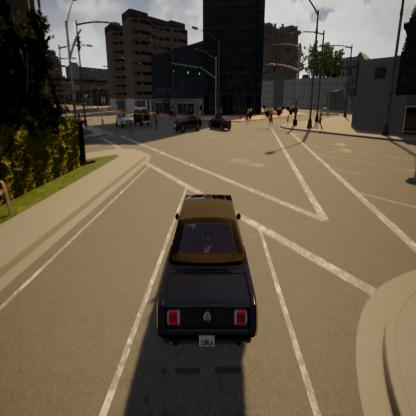Cars: (156, 184, 262, 355), (174, 114, 203, 132), (208, 115, 231, 133)
Pedestrian: (266, 108, 274, 127), (245, 107, 250, 127), (101, 116, 105, 130), (130, 120, 132, 134)
